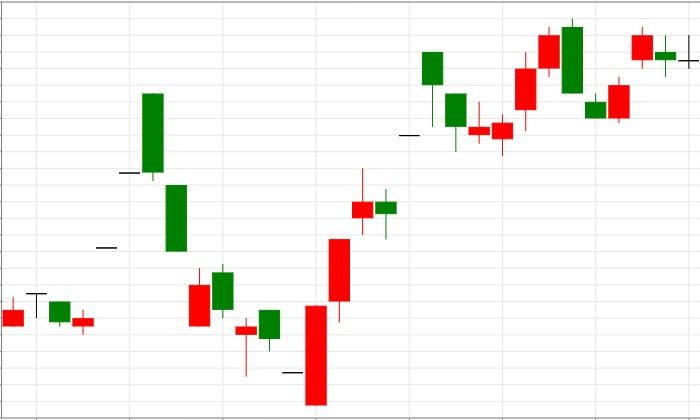bearish_engulfing_fall: (469, 17, 583, 157)
hanging_man_fall: (304, 51, 443, 406)
three_white_soldiers_rise: (142, 93, 374, 406)
